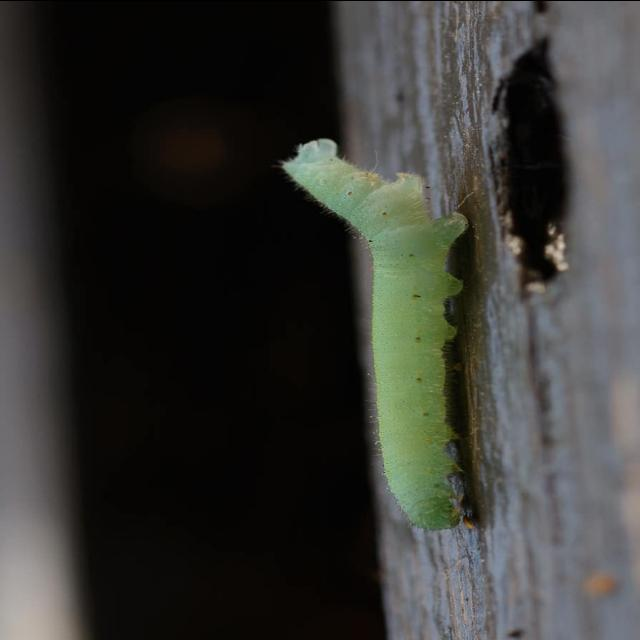looper: (260, 122, 493, 550)
